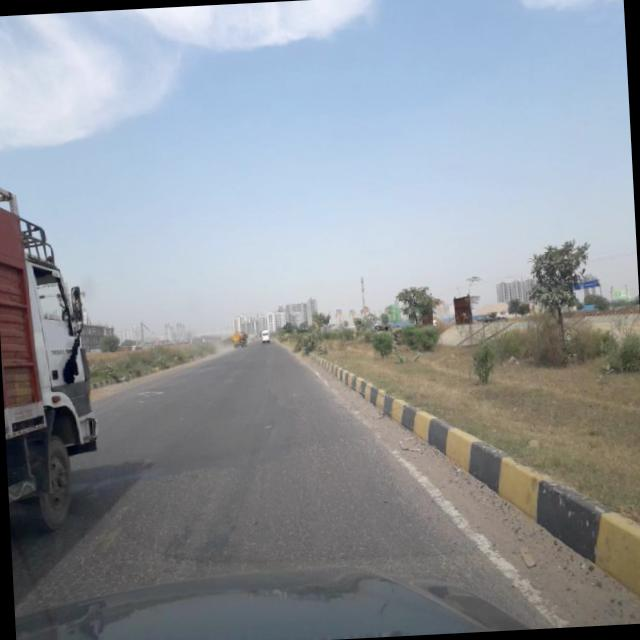crack: (80, 444, 503, 586)
